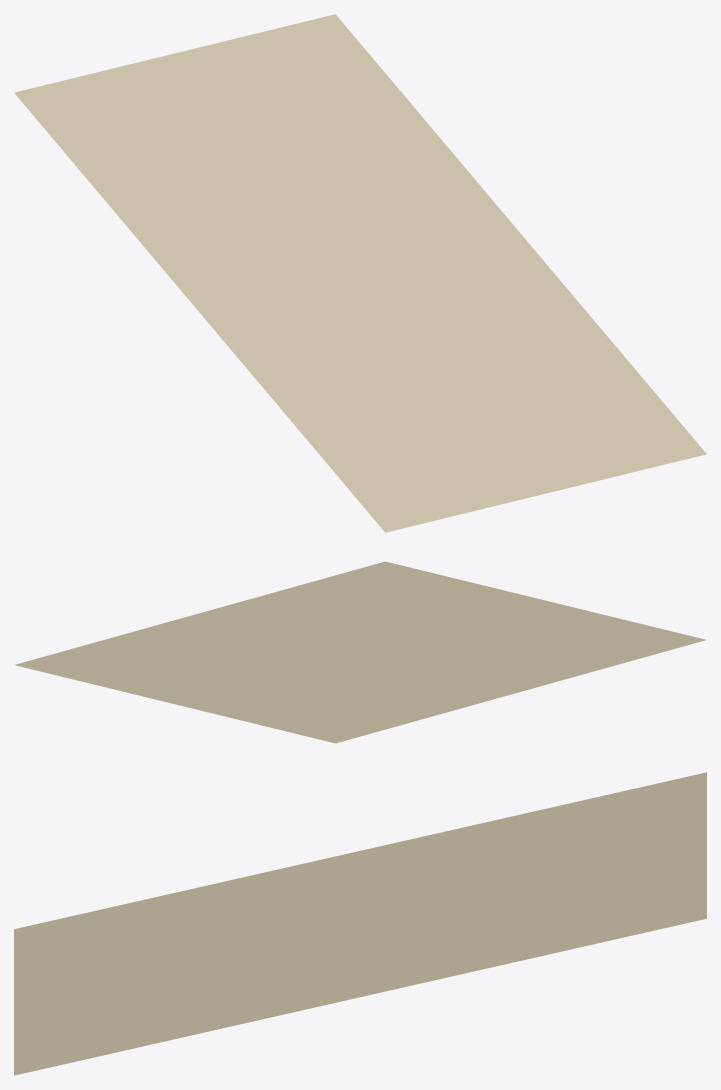
Rendered from ramp.glb.
The picture shows the model from 3 angles, top to bottom: view 1: azimuth 30°, elevation 25°; view 2: azimuth 150°, elevation 25°; view 3: azimuth 270°, elevation 25°; orthographic projection. The views are drawn at different scales.
Visible parts, largest first — view 1: ramp; view 2: ramp; view 3: ramp.
Part boxes in pixels (x1,y1,x2,y2): ramp: (14, 14, 706, 532); ramp: (15, 561, 705, 743); ramp: (14, 772, 706, 1075).
Bounding box in the file's own units: 3 × 1.5 × 6.
